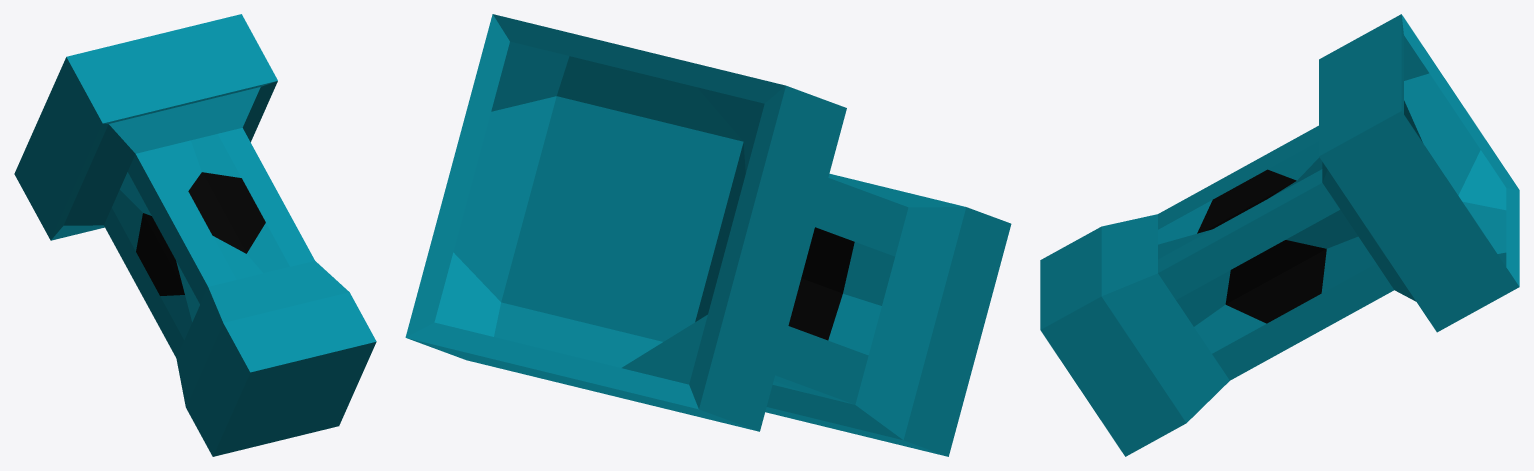
The model's file is wallTower1d.obj.
The picture shows the model from 3 angles, left to right: view 1: azimuth 30°, elevation 25°; view 2: azimuth 150°, elevation 25°; view 3: azimuth 270°, elevation 25°; orthographic projection. The views are drawn at different scales.
Visible parts, largest first — view 1: Cube; view 2: Cube; view 3: Cube.
Boxes of the visible parts, left/top/right/bottom form: Cube: left=14, top=14, right=376, bottom=456; Cube: left=405, top=14, right=1011, bottom=456; Cube: left=1040, top=14, right=1519, bottom=456.
Size of the model in its own units: 0.8336 by 1.44 by 1.74.
